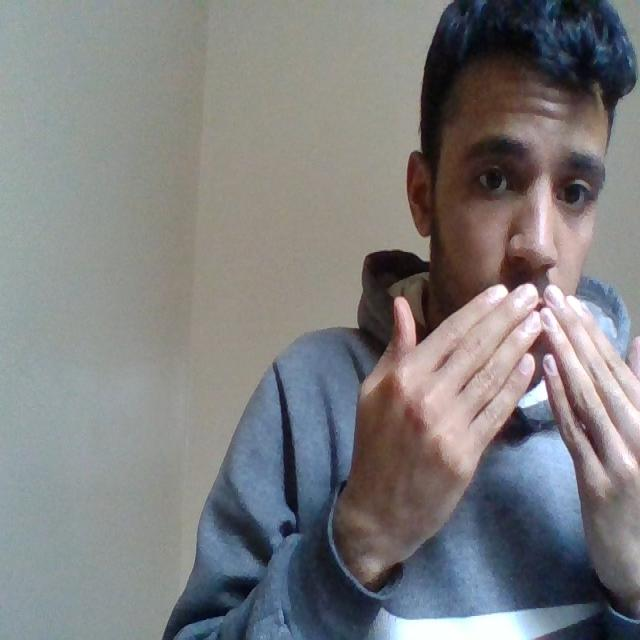Thanks: (326, 273, 639, 603)
